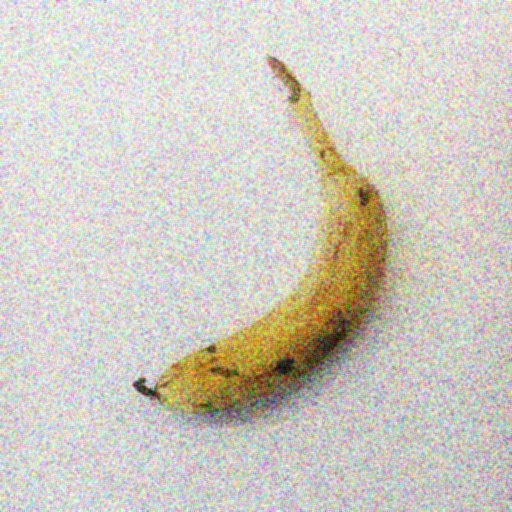fruit: (311, 114, 457, 430)
